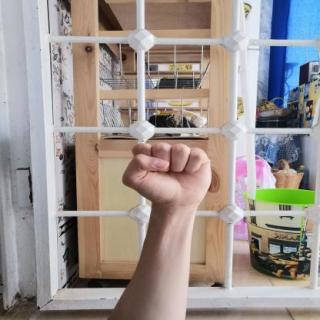SAD: (108, 133, 222, 212)
